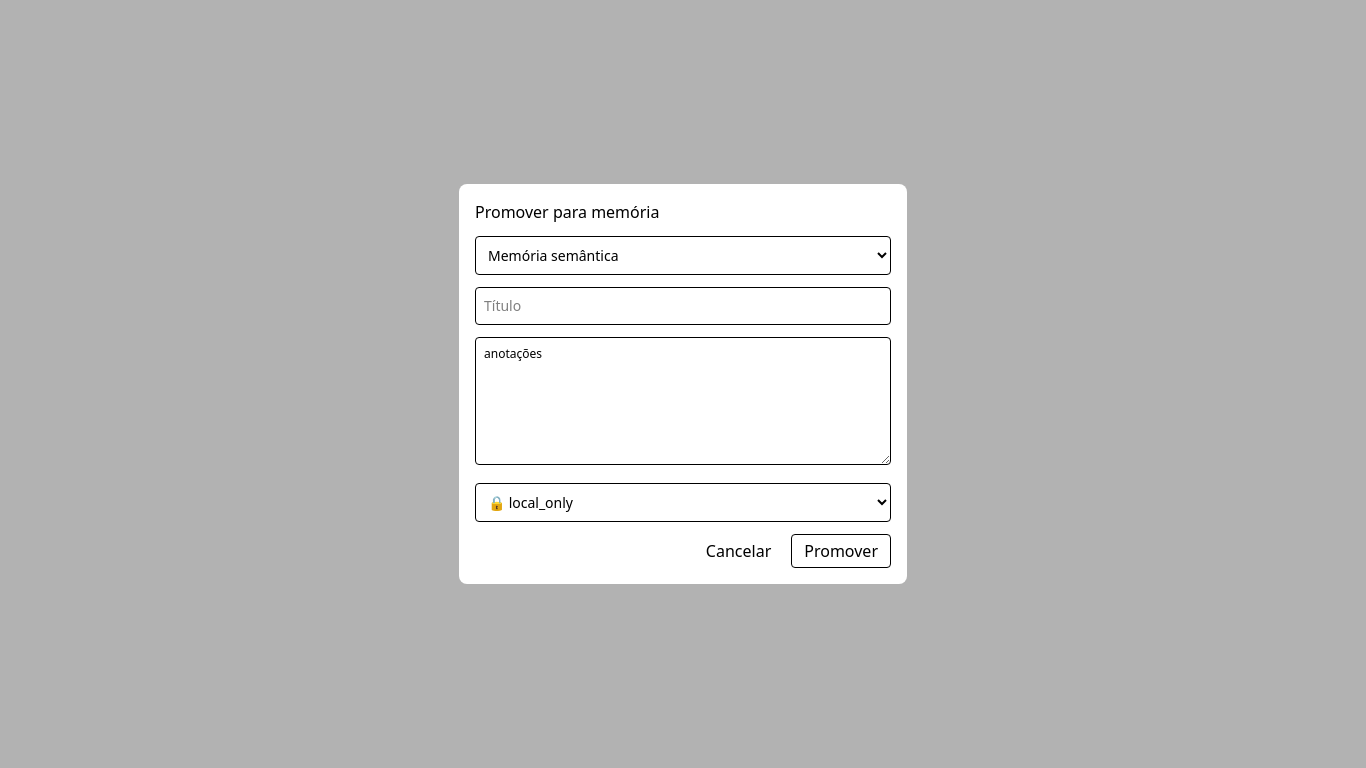
Test: PromoteDialog — colisão › COLLISION nunca vira '✅ criado'
This screenshot has width=1366, height=768.
Type "Docker" into the field with placeholder "Título".
click(683, 306); type("Docker")  # box [475,287,891,325]
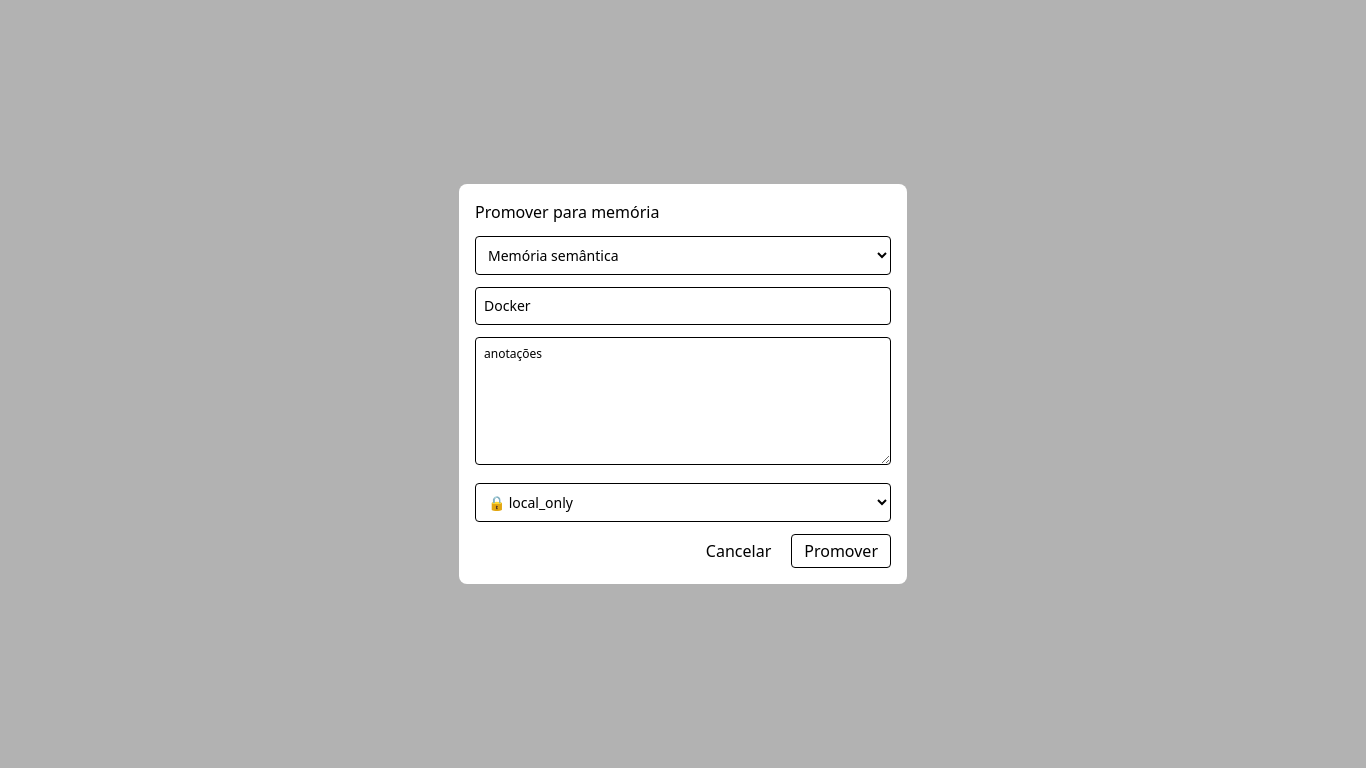
Click the button "Promover".
click(841, 551)  # box [791,534,891,568]
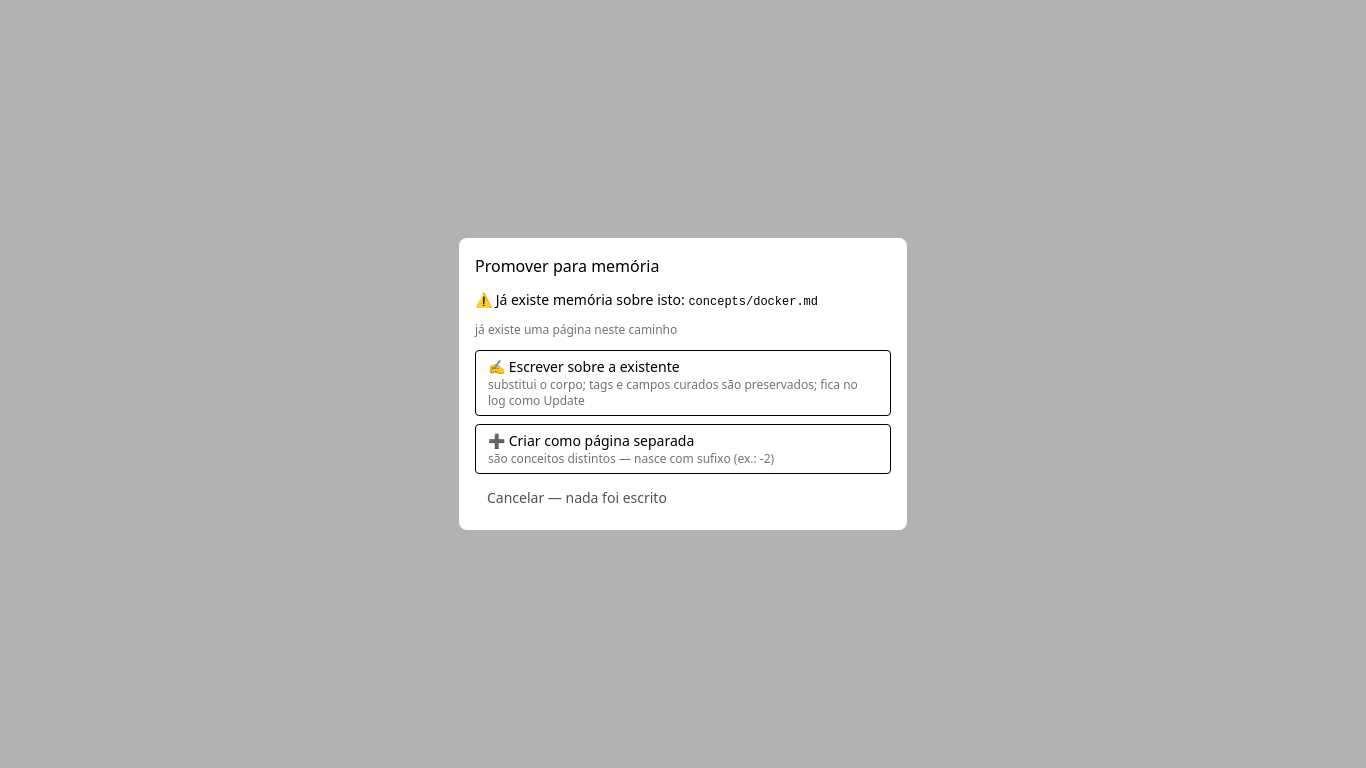
Expected: the text "⚠️ Já existe memória sobre isto: concepts/docker.md" is shown, [475,290,818,309]
Expected: the text "concepts/docker.md" is shown, [688,295,818,309]
